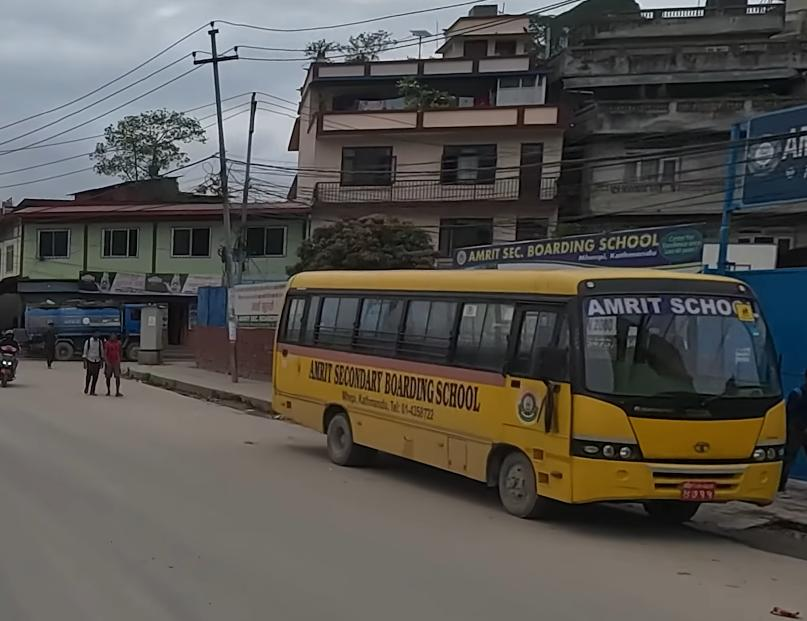school_bus: (268, 255, 800, 530)
